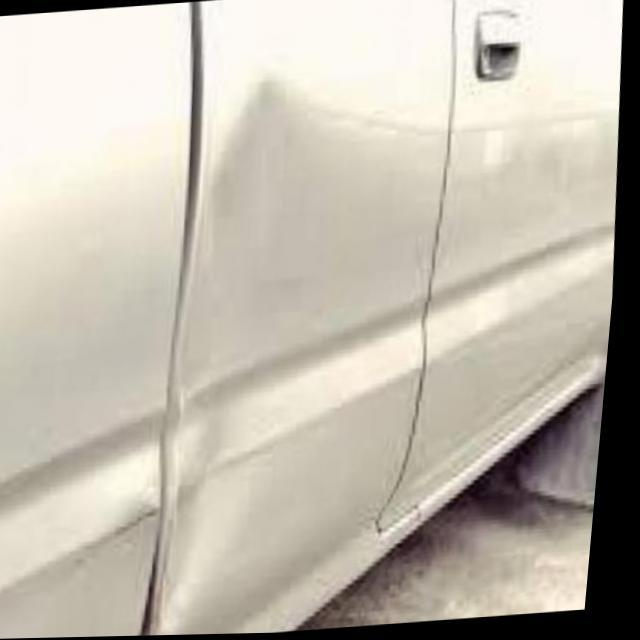dent: (150, 56, 320, 636)
